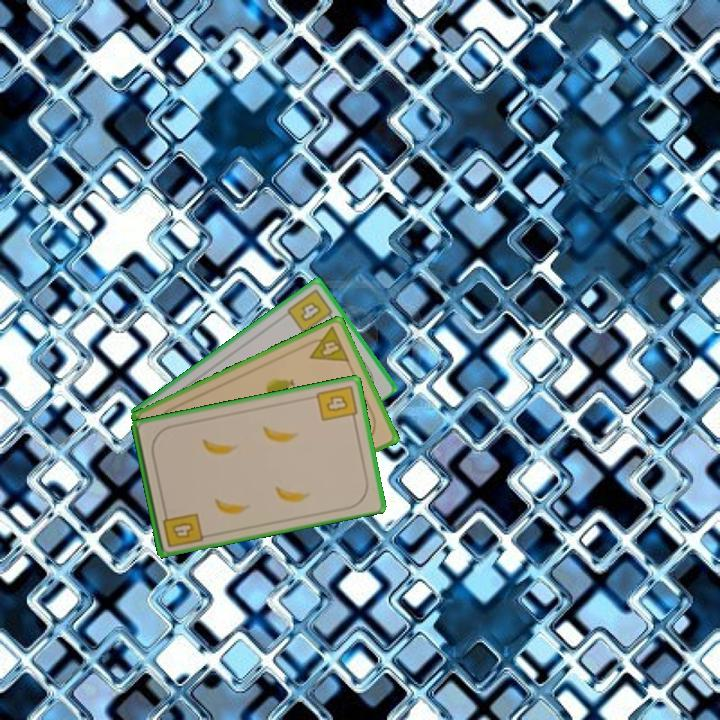4b: (283, 285, 338, 336), (313, 381, 360, 425), (159, 506, 205, 550)
4p: (301, 323, 352, 365)
